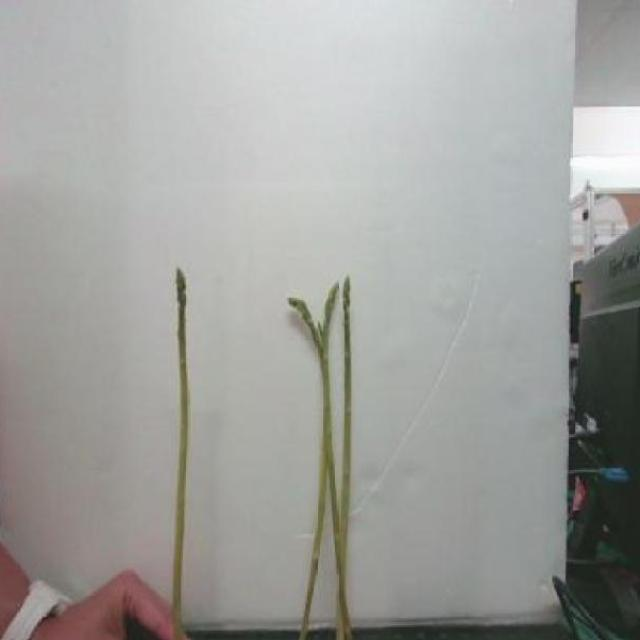aspargus: (169, 268, 189, 640)
